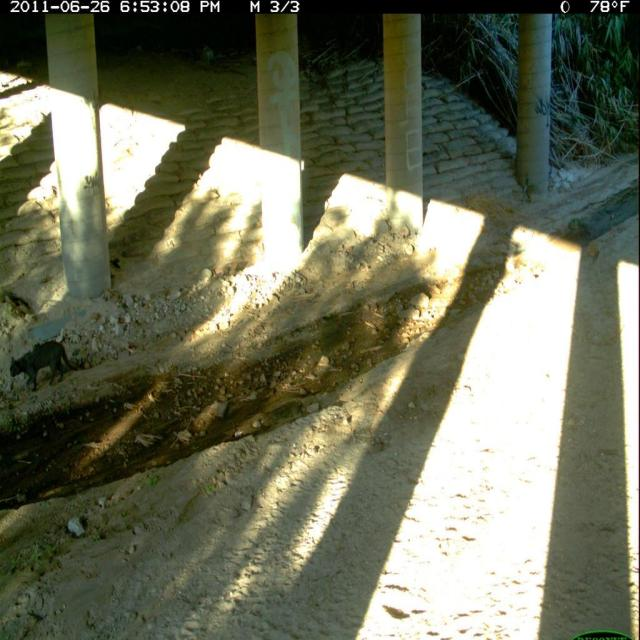cat: (7, 337, 84, 399)
